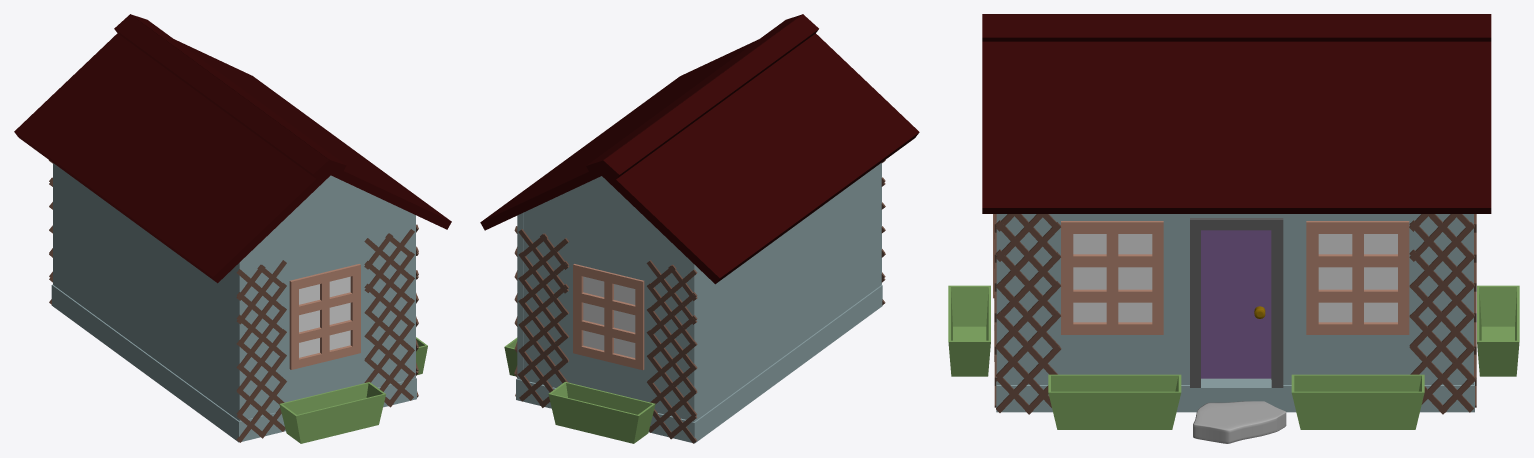
The model's file is Cottage.fbx.
3 renders of one model, left to right at view 1: azimuth 30°, elevation 25°; view 2: azimuth 150°, elevation 25°; view 3: azimuth 270°, elevation 25°, orthographic. The views are drawn at different scales.
Parts seen in each view (by area): view 1: Roof, House, polySurface246, polySurface240, polySurface300, polySurface213, polySurface283; view 2: Roof, House, polySurface301, polySurface273, polySurface250, polySurface211, polySurface327; view 3: Roof, House, Door, polySurface210, polySurface264, polySurface212, polySurface308, polySurface287, polySurface312, polySurface302, polySurface310, polySurface300 (+3 smaller).
Boxes of the visible parts, x1,y1,x2,y2 form: Roof: (14,14,451,283); House: (51,163,416,442); polySurface246: (289,264,360,369); polySurface240: (236,260,286,442); polySurface300: (279,382,385,443); polySurface213: (364,229,415,407); polySurface283: (299,276,350,357); Roof: (480,14,919,284); House: (516,163,882,443); polySurface301: (573,264,644,370); polySurface273: (646,260,697,443); polySurface250: (517,229,569,407); polySurface211: (548,381,655,443); polySurface327: (583,276,635,357); Roof: (982,14,1491,213); House: (996,214,1474,412); Door: (1190,218,1283,387); polySurface210: (1061,221,1163,334); polySurface264: (1306,221,1409,334); polySurface212: (1291,374,1424,429); polySurface308: (1048,374,1181,429); polySurface287: (995,214,1061,414); polySurface312: (1409,214,1476,414); polySurface302: (1073,234,1152,322); polySurface310: (1318,234,1397,322); polySurface300: (948,285,990,376).
Size of the model in its own units: 488 by 473 by 717.
